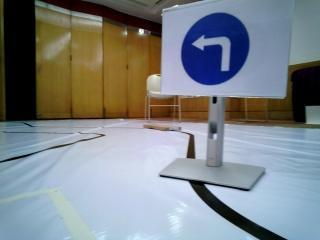left: (153, 2, 286, 94)
